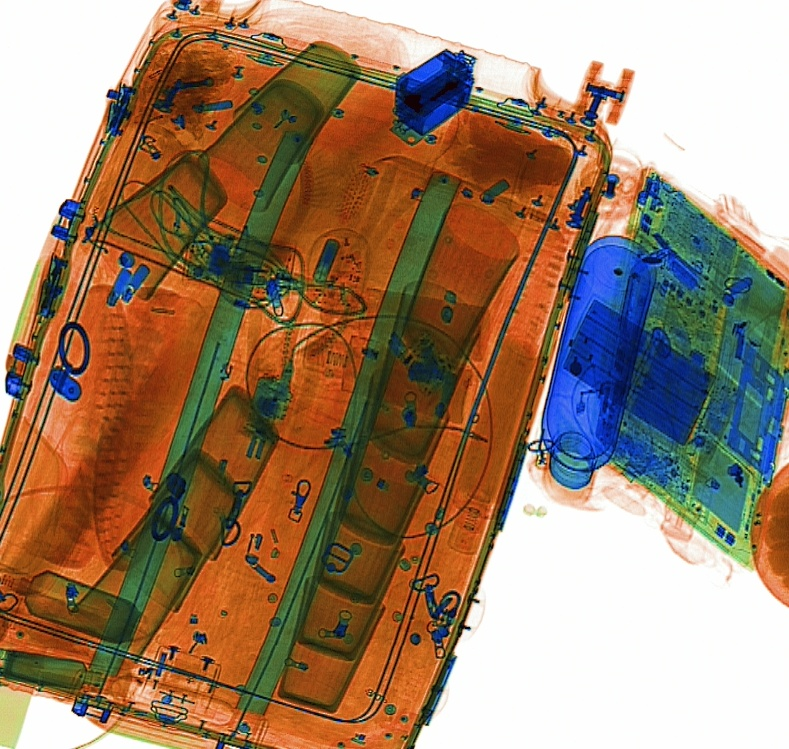powerbank: (559, 293, 737, 467)
